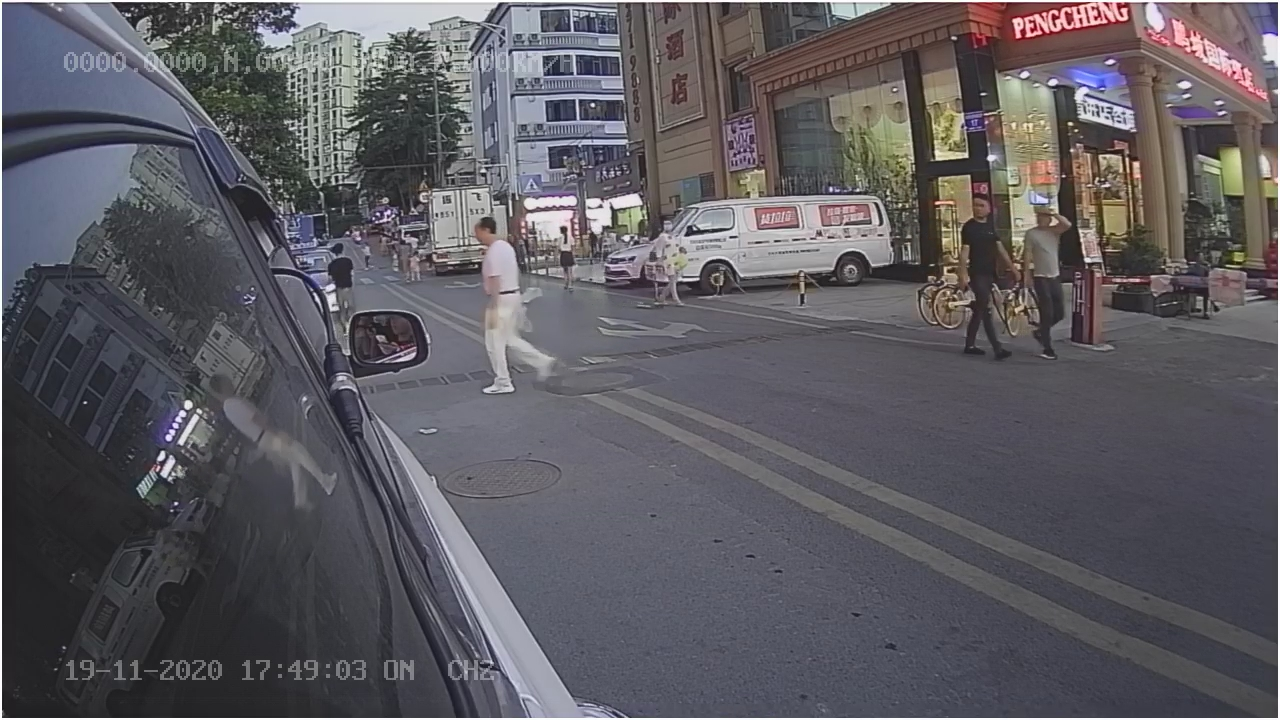person: (464, 214, 561, 399)
